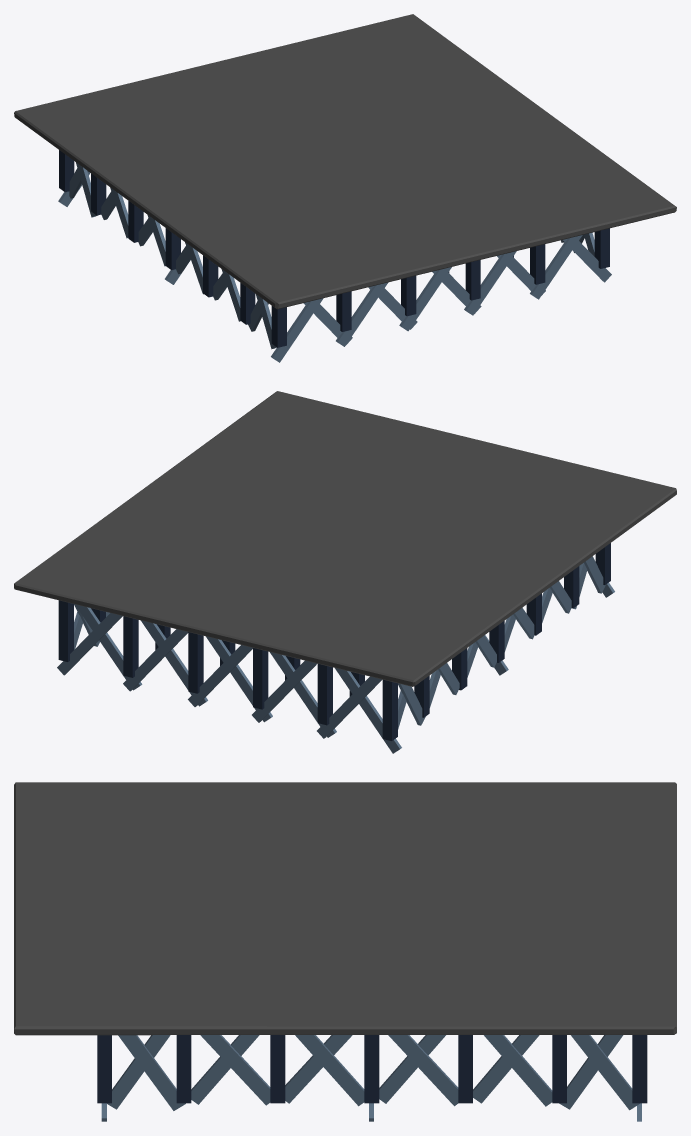
The model's file is Blockout_Building_Large_Filler_02.FBX.
The picture shows the model from 3 angles, top to bottom: view 1: azimuth 30°, elevation 25°; view 2: azimuth 150°, elevation 25°; view 3: azimuth 270°, elevation 25°; orthographic projection. The views are drawn at different scales.
Visible parts, largest first — view 1: Blockout_Building_Large_Filler_02; view 2: Blockout_Building_Large_Filler_02; view 3: Blockout_Building_Large_Filler_02.
Boxes of the visible parts, <box> form: Blockout_Building_Large_Filler_02: <box>14,14,676,362</box>; Blockout_Building_Large_Filler_02: <box>14,391,676,753</box>; Blockout_Building_Large_Filler_02: <box>14,782,676,1121</box>.
Bounding box in the file's own units: 1575 × 350 × 1793.
